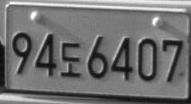0: (137, 37, 157, 81)
4: (110, 36, 133, 81), (34, 33, 56, 76)
6: (86, 35, 108, 79)
7: (161, 38, 183, 82)
9: (10, 31, 32, 73)
도: (59, 42, 81, 77)
